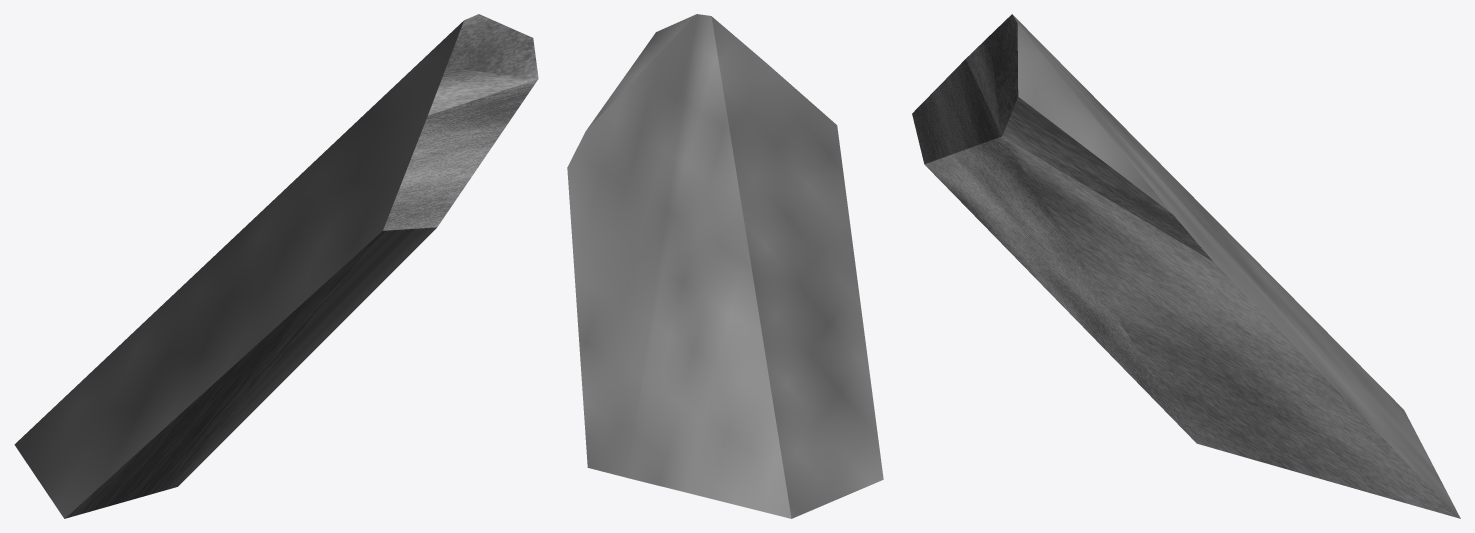
The model's file is leg_2_cell_001.fbx.
3 renders of one model, left to right at view 1: azimuth 30°, elevation 25°; view 2: azimuth 150°, elevation 25°; view 3: azimuth 270°, elevation 25°, orthographic. The views are drawn at different scales.
Visible parts, largest first — view 1: leg_2_cell.001; view 2: leg_2_cell.001; view 3: leg_2_cell.001.
Boxes of the visible parts, bbox=[...] form: leg_2_cell.001: bbox=[14, 14, 538, 518]; leg_2_cell.001: bbox=[567, 14, 883, 518]; leg_2_cell.001: bbox=[912, 14, 1460, 518].
Bounding box in the file's own units: 16.07 × 17.64 × 15.84.
